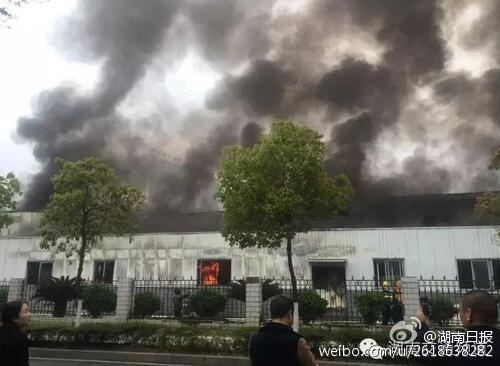fire: (199, 258, 222, 283)
